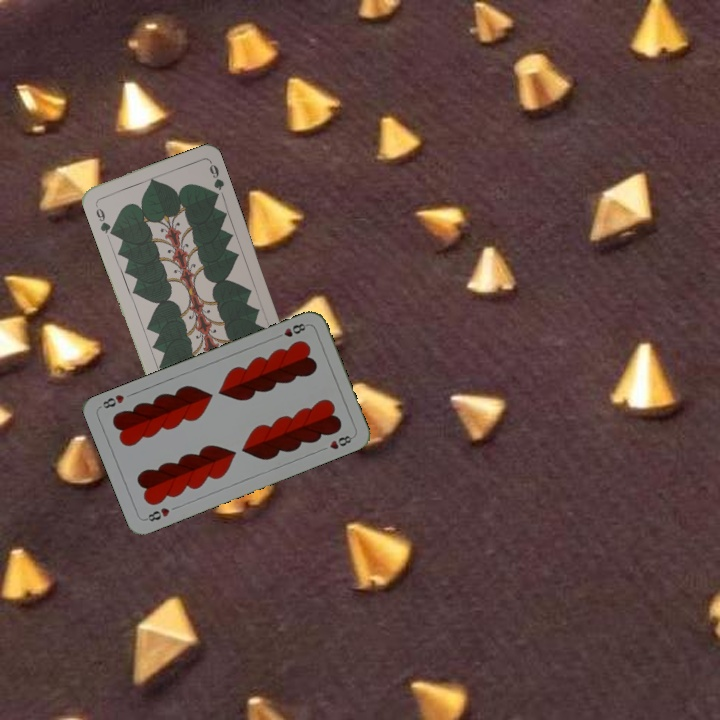G9: (91, 199, 115, 237)
H8: (272, 319, 311, 341), (141, 503, 172, 524)
